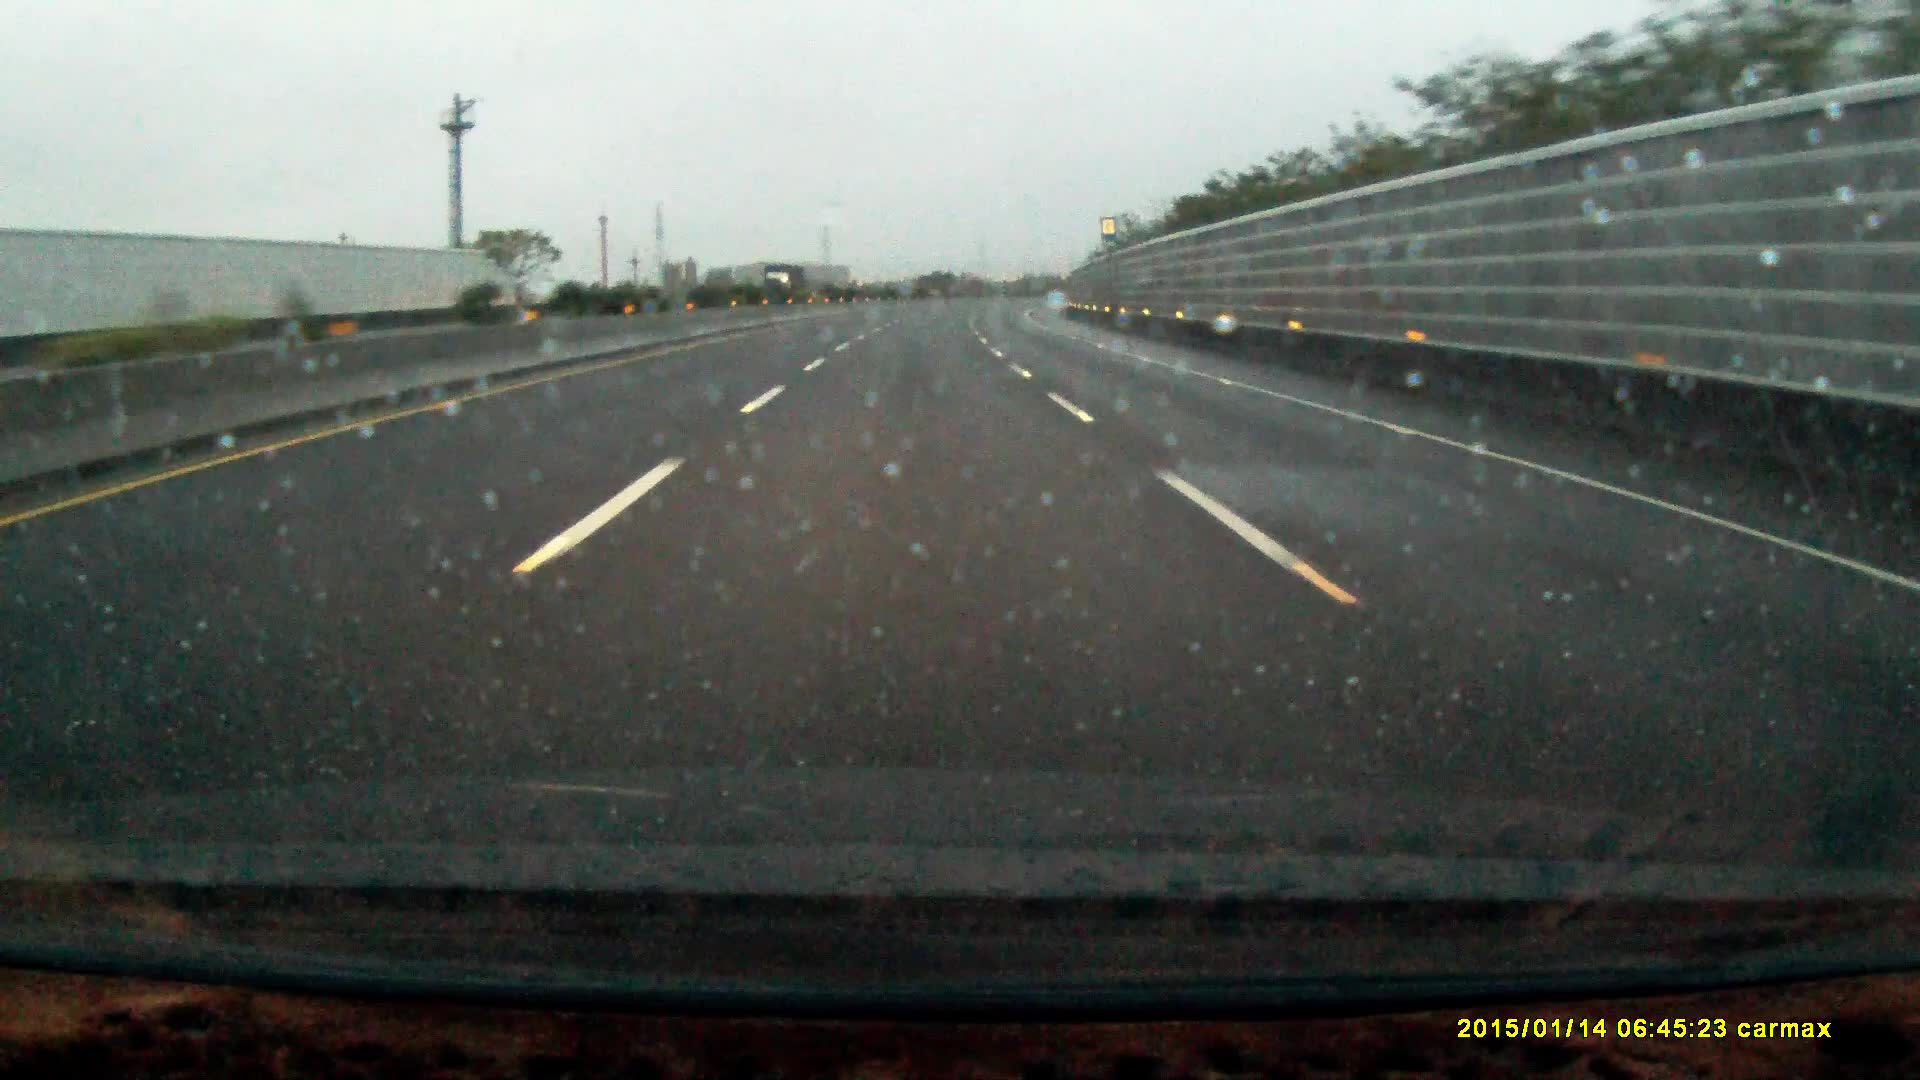vehicle: (762, 266, 808, 302)
